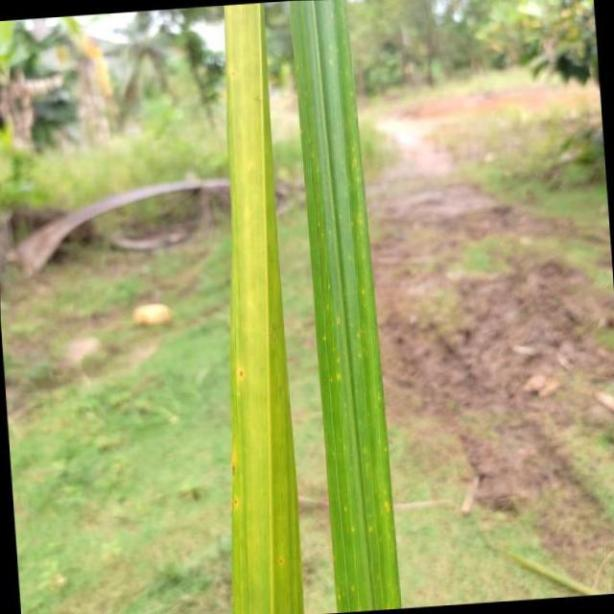nitrogen: (294, 0, 400, 614), (222, 0, 301, 614)
